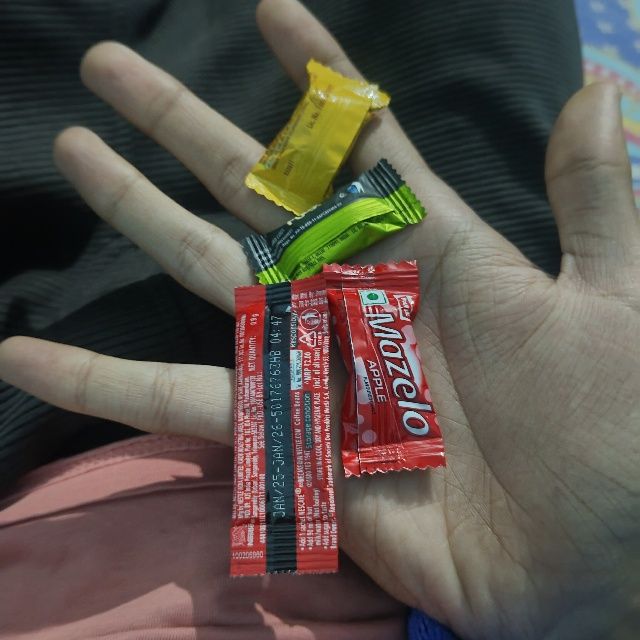Alpenlibe Creamfills: (319, 52, 401, 214)
Mazelo: (326, 264, 420, 476)
Nescafe Coffee: (232, 285, 342, 576)
Pulse: (239, 238, 410, 317)
